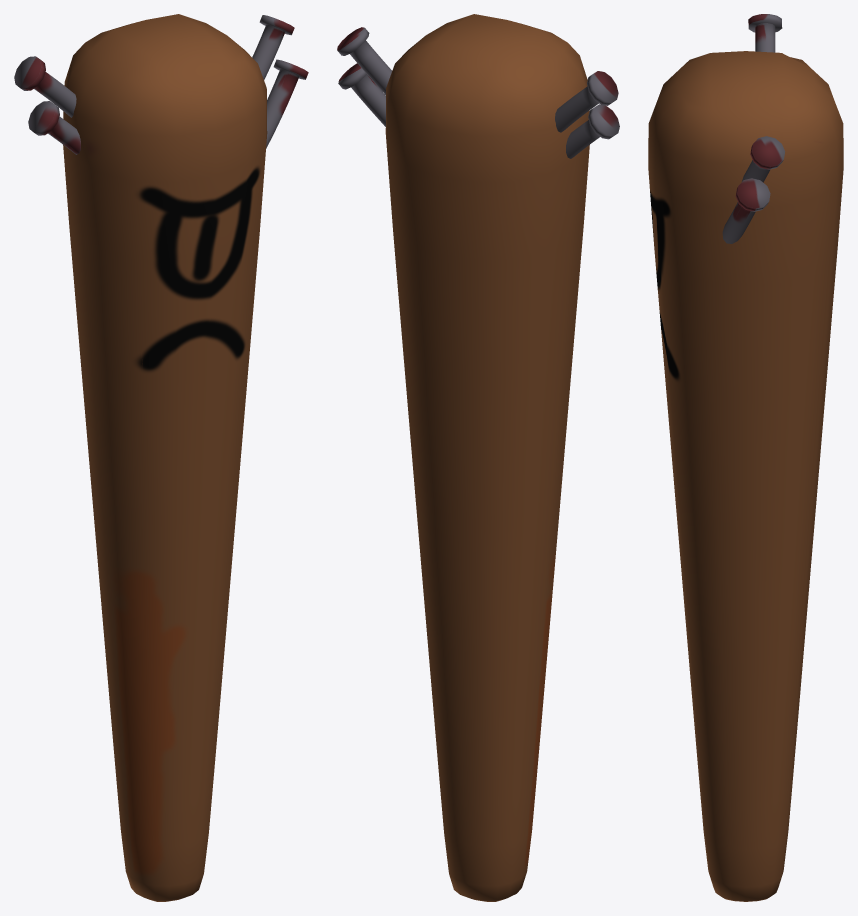
File: bat.fbx
The picture shows the model from 3 angles, left to right: view 1: azimuth 30°, elevation 25°; view 2: azimuth 150°, elevation 25°; view 3: azimuth 270°, elevation 25°; orthographic projection. The views are drawn at different scales.
Parts seen in each view (by area): view 1: bat, nails; view 2: bat, nails; view 3: bat, nails.
Boxes of the visible parts, x1,y1,x2,y2 form: bat: (63,14,267,901); nails: (14,15,308,154); bat: (385,14,589,901); nails: (337,27,619,158); bat: (648,51,843,901); nails: (722,14,785,243).
Bounding box in the file's own units: 275 × 803 × 172.
